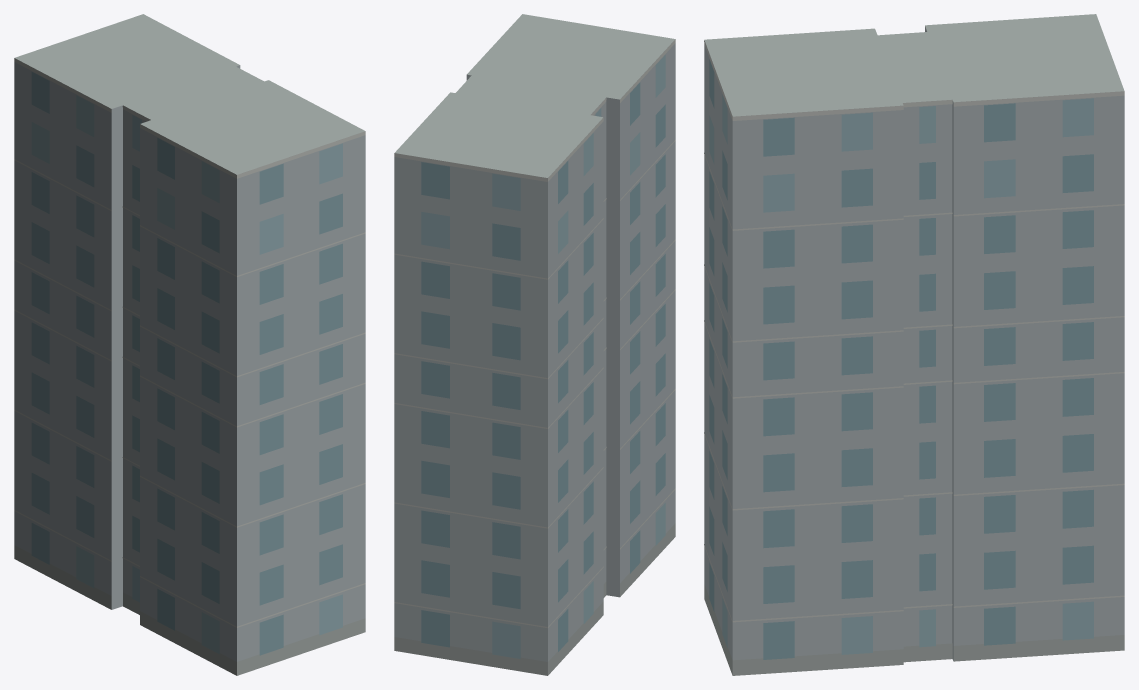
File: survey-upis-32735366.glb
3 renders of one model, left to right at view 1: azimuth 30°, elevation 25°; view 2: azimuth 150°, elevation 25°; view 3: azimuth 270°, elevation 25°, orthographic. The views are drawn at different scales.
Parts seen in each view (by area): view 1: survey-upis-32735366.tmp; view 2: survey-upis-32735366.tmp; view 3: survey-upis-32735366.tmp.
Part boxes in pixels (left/top/right/bottom): survey-upis-32735366.tmp: left=14, top=14, right=365, bottom=675; survey-upis-32735366.tmp: left=394, top=14, right=675, bottom=675; survey-upis-32735366.tmp: left=704, top=14, right=1124, bottom=675.
Bounding box in the file's own units: 12.15 × 30.8 × 21.
